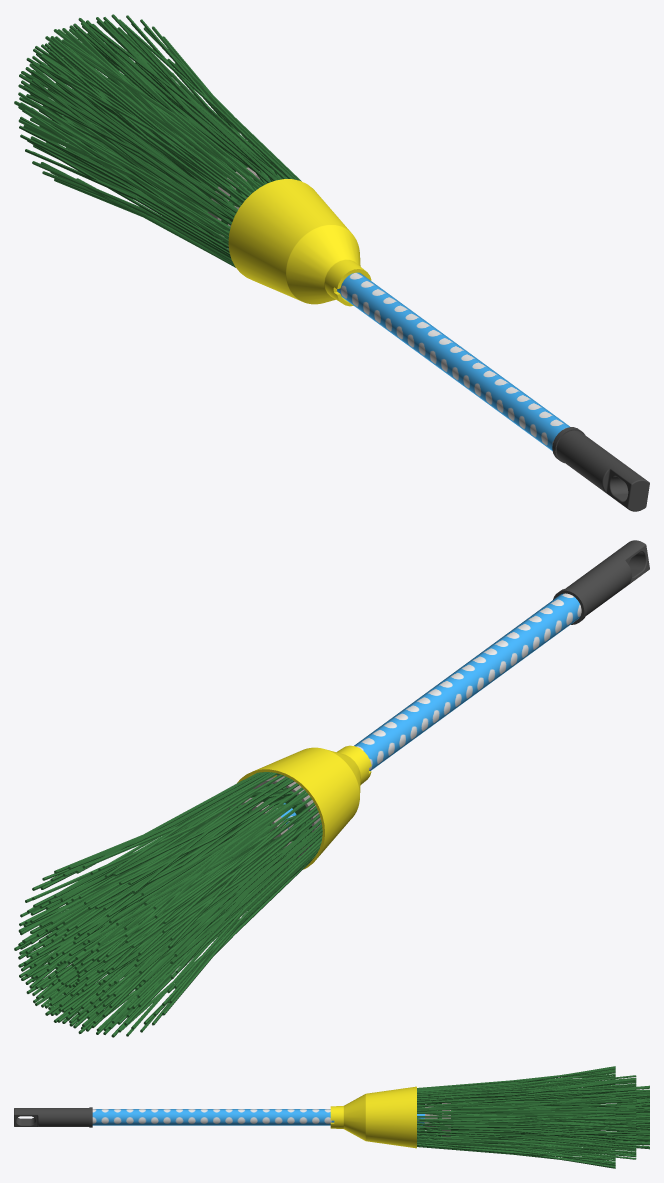
The model's file is broom.obj.
3 views of the same model, one above another, from view 1: azimuth 30°, elevation 25°; view 2: azimuth 150°, elevation 25°; view 3: azimuth 270°, elevation 25° (orthographic). The views are drawn at different scales.
Visible parts, largest first — view 1: fiber1, fiber2, cap, handle, fiber3, handke_cap, fiber4; view 2: fiber1, fiber2, fiber3, handle, cap, fiber4, handke_cap; view 3: fiber1, fiber2, handle, fiber3, cap, handke_cap, fiber4.
Part boxes in pixels (x1=…): fiber1: x1=18, y1=14, x2=301, y2=267; fiber2: x1=14, y1=17, x2=287, y2=247; cap: x1=228, y1=179, x2=371, y2=306; handle: x1=337, y1=272, x2=569, y2=450; fiber3: x1=18, y1=25, x2=271, y2=239; handke_cap: x1=552, y1=427, x2=649, y2=511; fiber4: x1=42, y1=43, x2=251, y2=221; fiber1: x1=18, y1=772, x2=322, y2=1037; fiber2: x1=14, y1=783, x2=312, y2=1034; fiber3: x1=18, y1=804, x2=278, y2=1026; handle: x1=273, y1=593, x2=581, y2=829; cap: x1=237, y1=745, x2=371, y2=869; fiber4: x1=34, y1=831, x2=273, y2=1010; handke_cap: x1=553, y1=540, x2=649, y2=624; fiber1: x1=417, y1=1066, x2=615, y2=1168; fiber2: x1=417, y1=1075, x2=636, y2=1159; handle: x1=92, y1=1109, x2=428, y2=1125; fiber3: x1=437, y1=1085, x2=649, y2=1149; cap: x1=330, y1=1086, x2=416, y2=1148; handke_cap: x1=14, y1=1107, x2=92, y2=1127; fiber4: x1=438, y1=1097, x2=649, y2=1136.
Size of the model in its own units: 150 by 150 by 928.
5 materials, 1 textured.
